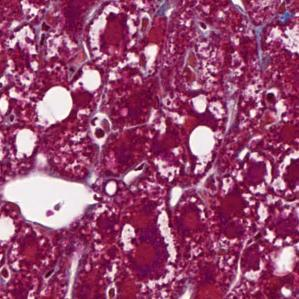steatosis: (0, 167, 100, 231), (39, 82, 72, 130), (188, 125, 219, 159), (79, 63, 108, 94)
